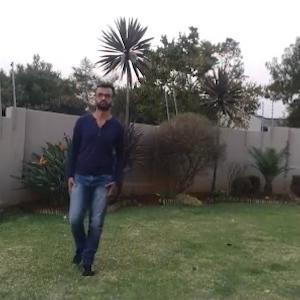follow: (55, 55, 132, 290)
